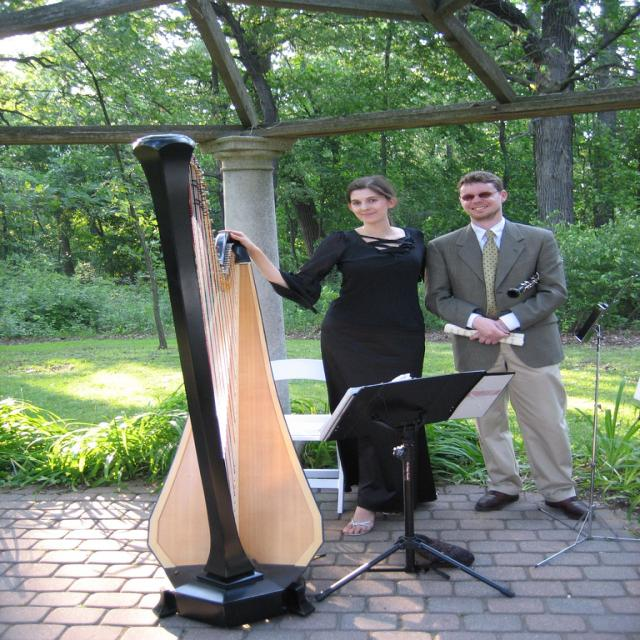harp: (107, 126, 345, 626)
